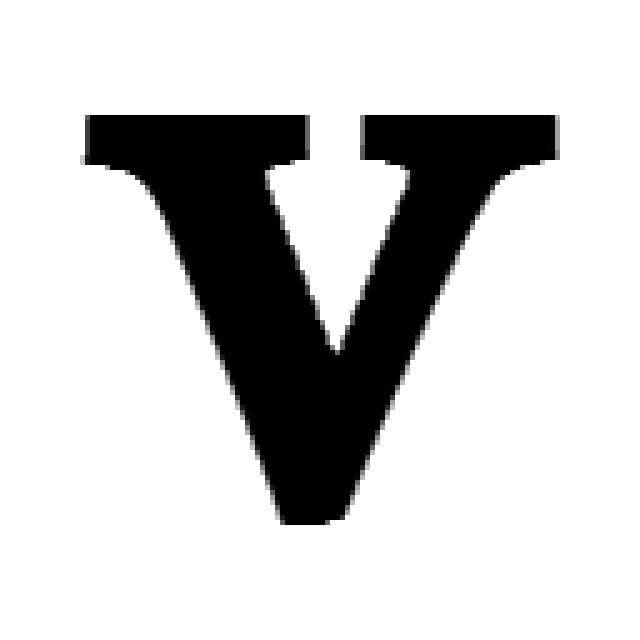V: (75, 100, 565, 530)
